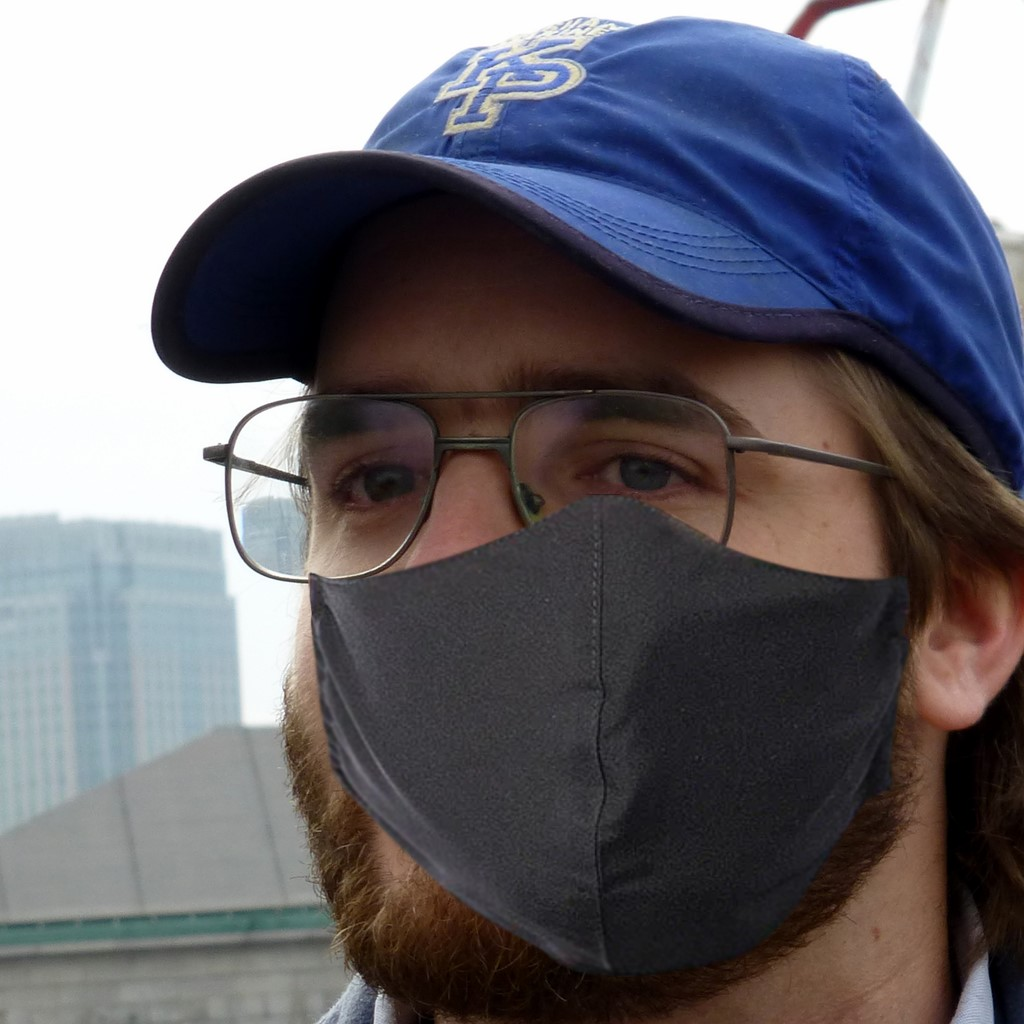con_mascara: (271, 224, 905, 980)
